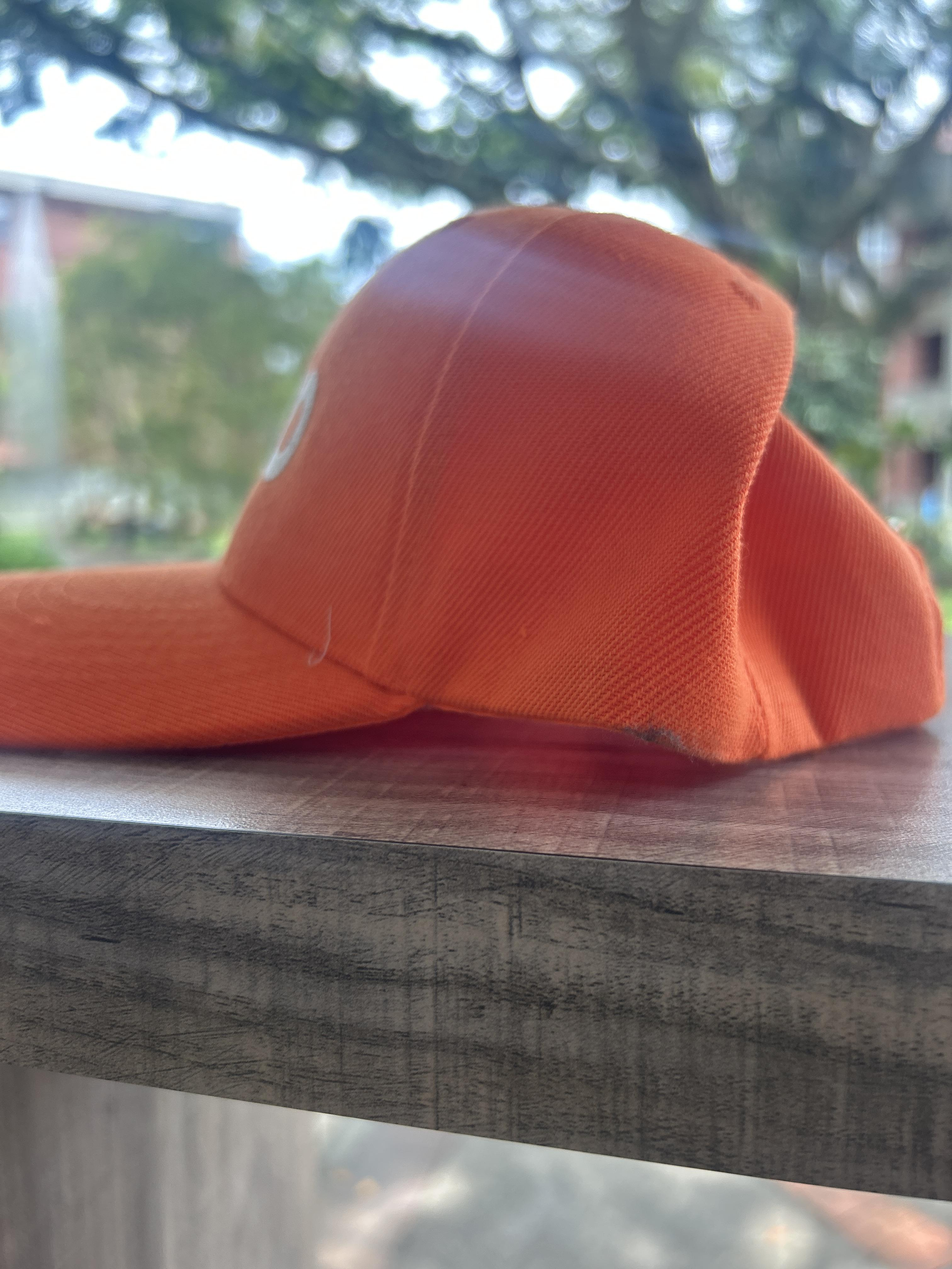gorra: (0, 207, 945, 763), (0, 207, 944, 763)
